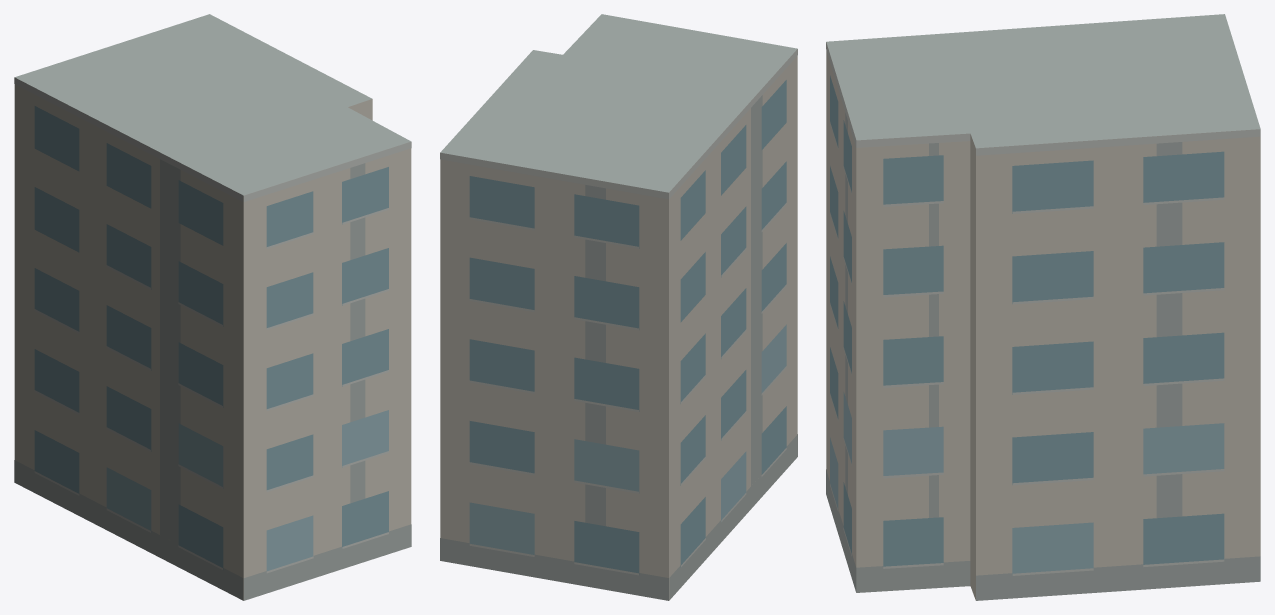
File: survey-upis-32780354.glb
3 renders of one model, left to right at view 1: azimuth 30°, elevation 25°; view 2: azimuth 150°, elevation 25°; view 3: azimuth 270°, elevation 25°, orthographic. The views are drawn at different scales.
Parts seen in each view (by area): view 1: survey-upis-32780354.tmp; view 2: survey-upis-32780354.tmp; view 3: survey-upis-32780354.tmp.
Part boxes in pixels (box(x1,y1,x2,y2)): survey-upis-32780354.tmp: box(14, 14, 411, 600); survey-upis-32780354.tmp: box(440, 14, 797, 600); survey-upis-32780354.tmp: box(826, 14, 1260, 600).
Bounding box in the file's own units: 9.41 × 14.77 × 12.87.
